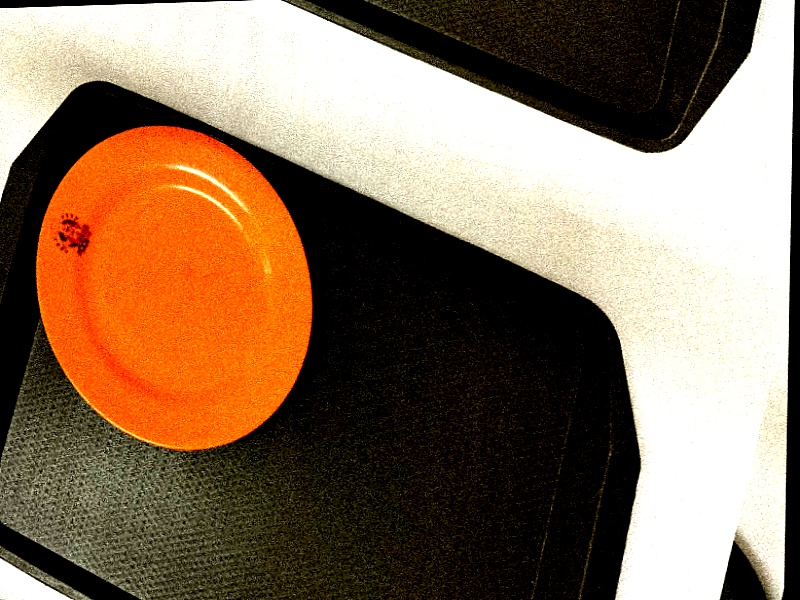dish10: (0, 68, 352, 513)
